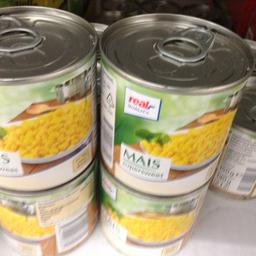corn: (98, 12, 252, 196), (0, 5, 98, 192)
